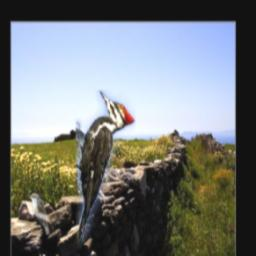Cuckoo: (29, 194, 50, 236)
Woodpecker: (76, 90, 135, 250)
